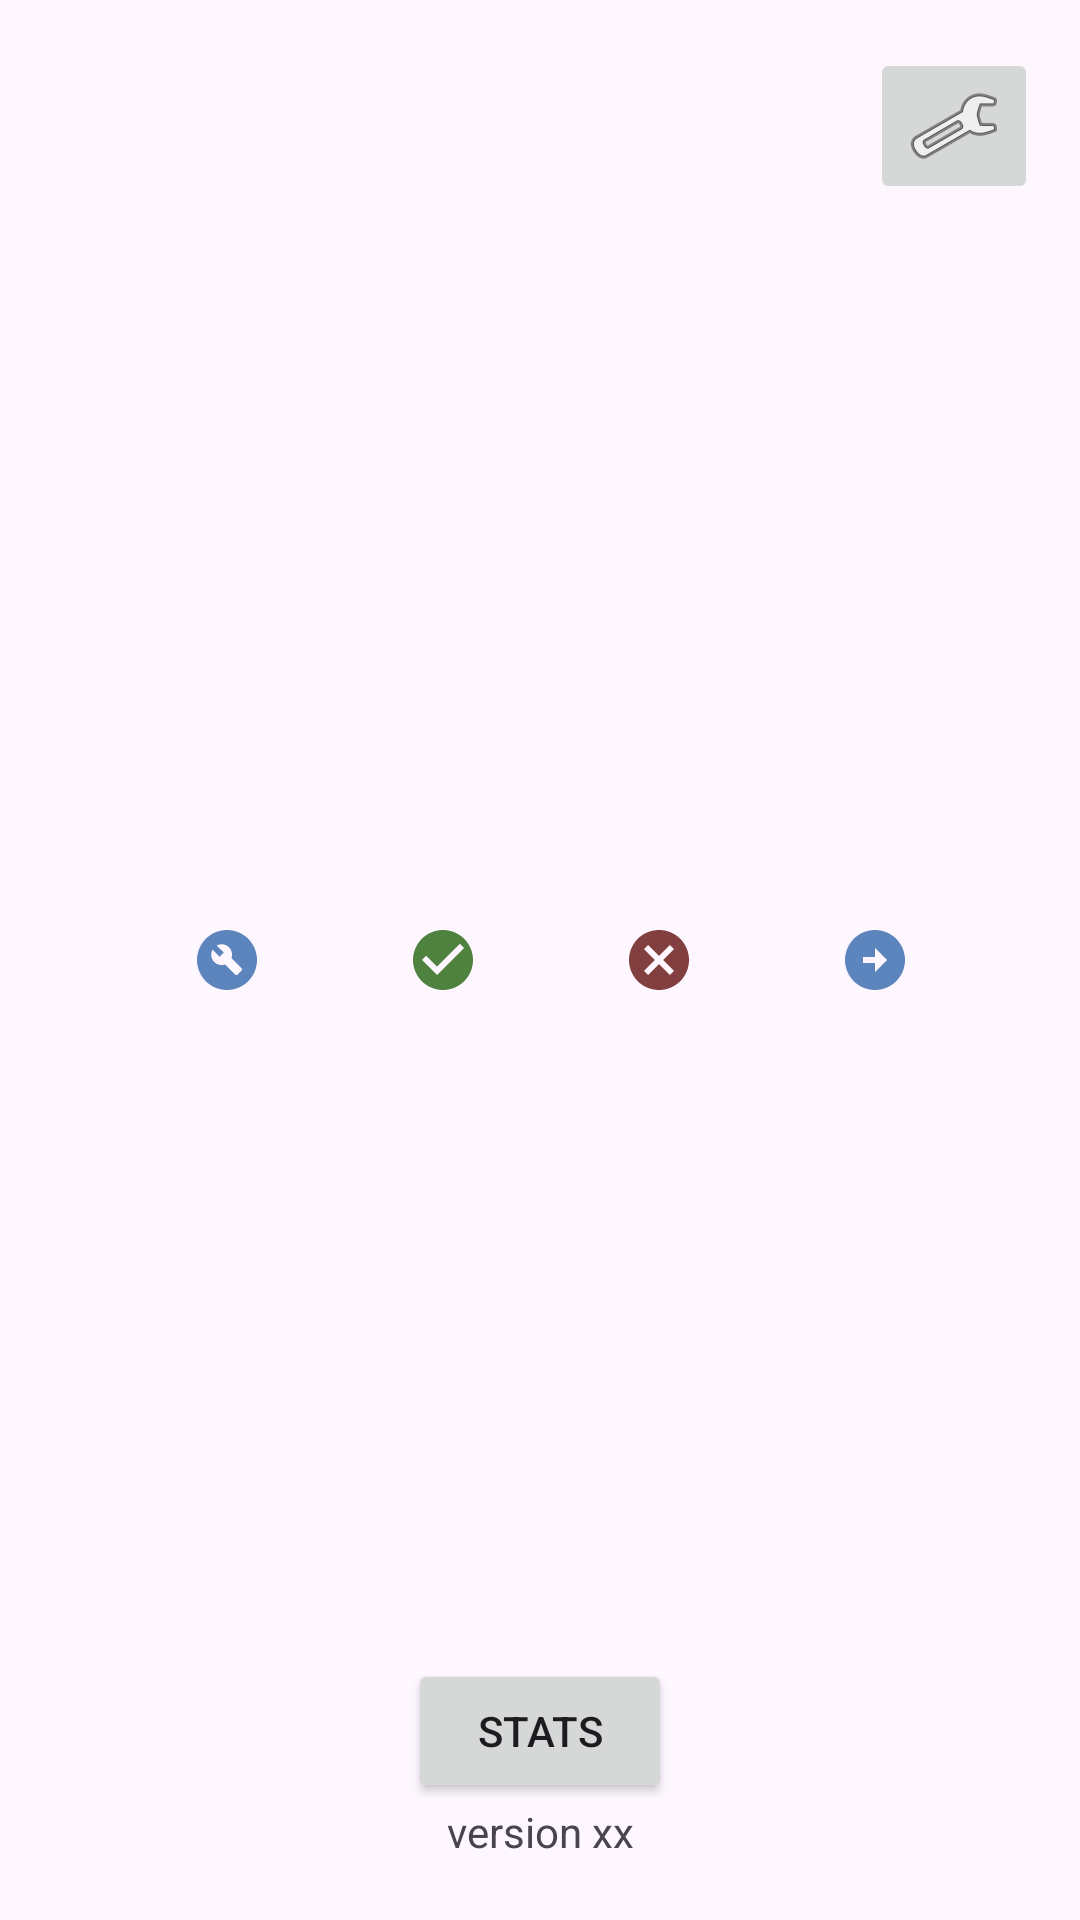

Icons on this 1080px x 1920px Android screen, each with the point to tap as (x=x, y=y):
arrow circle right: (x=875, y=960)
build circle: (x=227, y=960)
cancel: (x=659, y=960)
check circle: (x=443, y=960)
Settings: (x=954, y=126)
